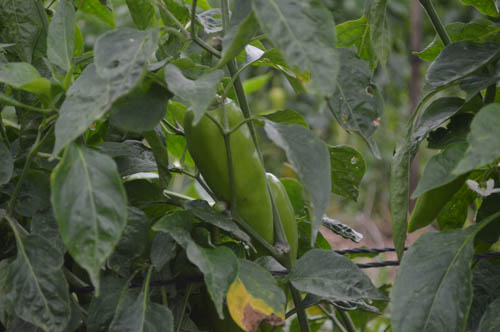ChiliPepper: (185, 107, 272, 247)
